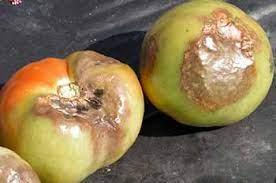tomato late blight: (1, 51, 146, 183), (140, 2, 275, 129)
